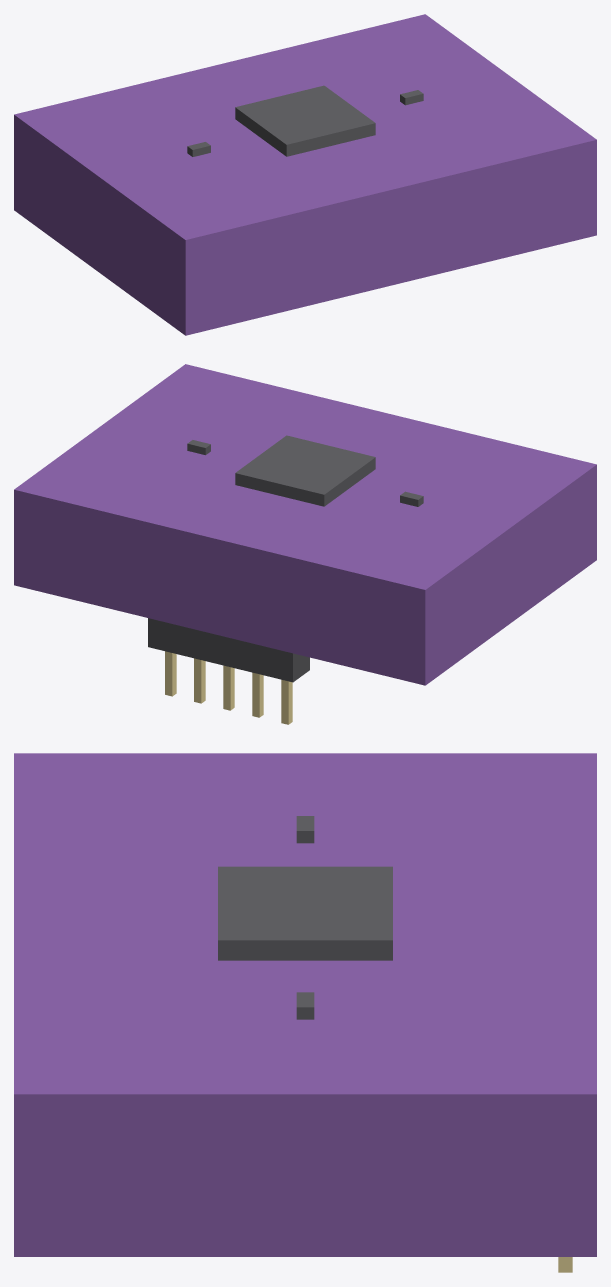
File: neo6m.glb
The picture shows the model from 3 angles, top to bottom: view 1: azimuth 30°, elevation 25°; view 2: azimuth 150°, elevation 25°; view 3: azimuth 270°, elevation 25°; orthographic projection. The views are drawn at different scales.
Visible parts, largest first — view 1: neo6m-pcb, neo6m-ic; view 2: neo6m-pcb, neo6m-ic, neo6m-plastic, neo6m-pins; view 3: neo6m-pcb, neo6m-ic.
Part boxes in pixels (x1,y1,x2,y2): neo6m-pcb: (14,14,596,335); neo6m-ic: (187,85,423,156); neo6m-pcb: (14,364,596,685); neo6m-ic: (187,435,423,506); neo6m-plastic: (148,618,309,682); neo6m-pins: (165,651,292,724); neo6m-pcb: (14,753,596,1256); neo6m-ic: (218,816,392,1019).
Size of the model in its own units: 0.036 by 0.0156 by 0.026.
